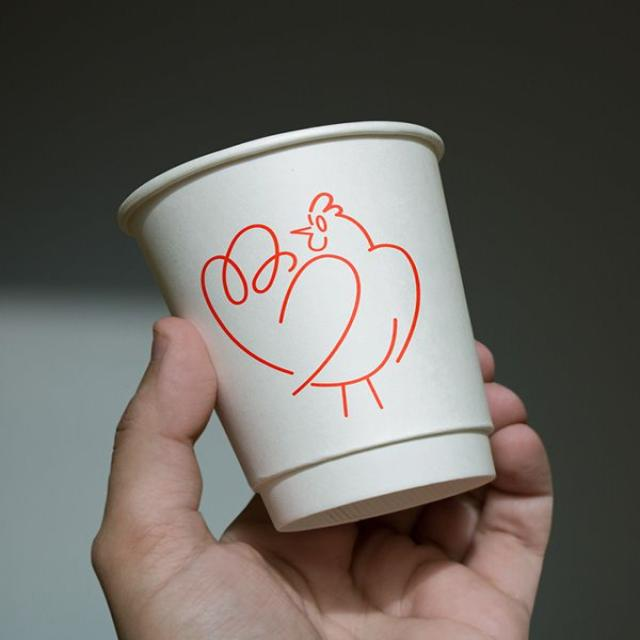paper cup: (117, 122, 498, 532)
